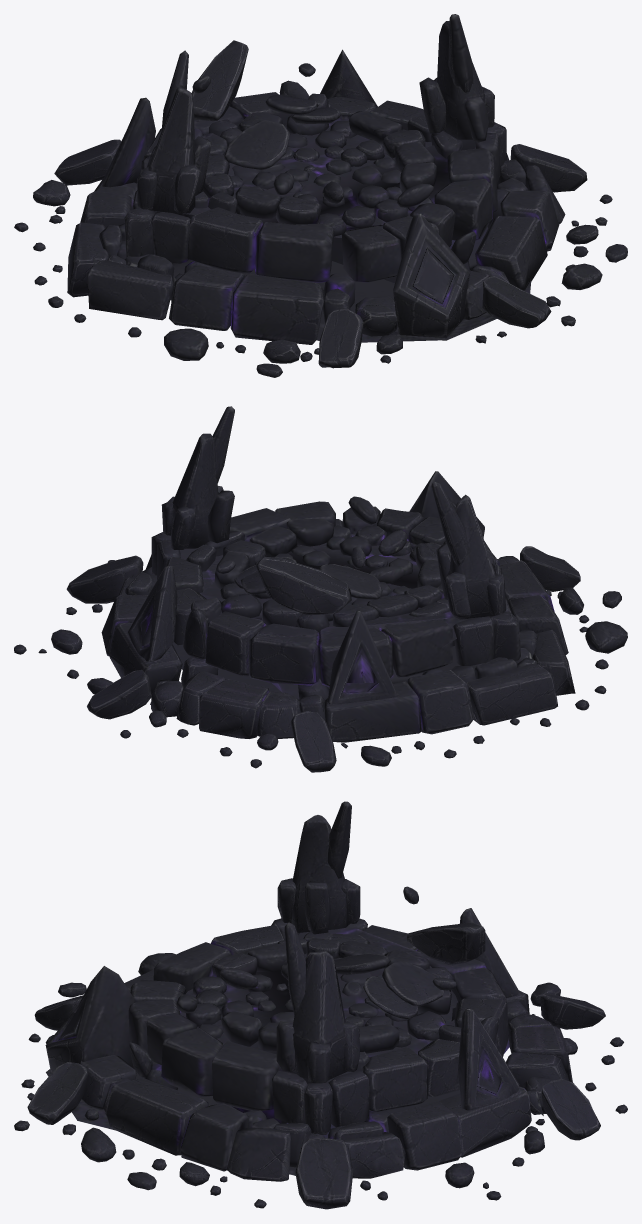
The model's file is core_void_nexus_destroyed.glb.
The picture shows the model from 3 angles, top to bottom: view 1: azimuth 30°, elevation 25°; view 2: azimuth 150°, elevation 25°; view 3: azimuth 270°, elevation 25°; orthographic projection. The views are drawn at different scales.
Parts seen in each view (by area): view 1: mesh_node; view 2: mesh_node; view 3: mesh_node.
Boxes of the visible parts, x1,y1,x2,y2 form: mesh_node: (14, 14, 627, 377); mesh_node: (14, 406, 627, 772); mesh_node: (14, 801, 627, 1209).
Size of the model in its own units: 1 by 0.3955 by 0.9844.
1 material, 1 textured.
